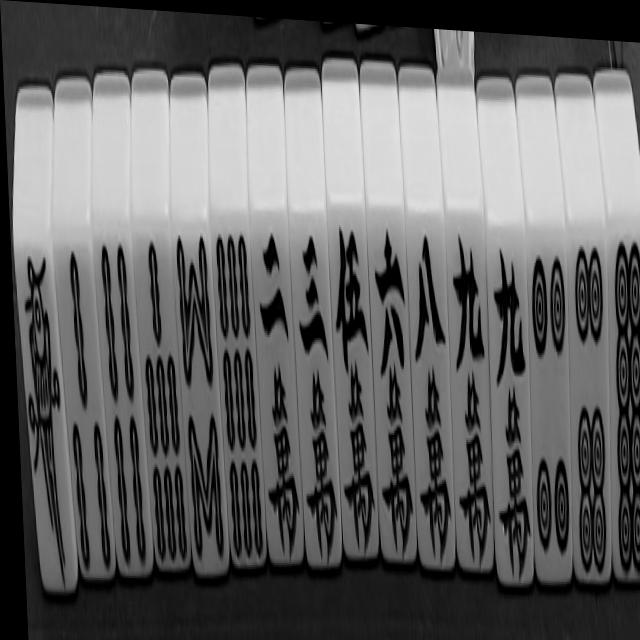m2: (242, 60, 308, 582)
m3: (281, 63, 346, 581)
m5: (319, 54, 382, 574)
m6: (357, 55, 420, 578)
m8: (395, 63, 460, 586)
m9: (474, 71, 541, 600), (434, 66, 500, 588)
s1: (4, 78, 80, 607)
s3: (45, 72, 118, 600)
s4: (85, 69, 157, 600)
s7: (124, 68, 192, 595)
s8: (163, 69, 232, 590)
s9: (202, 64, 270, 587)
t4: (510, 72, 581, 607)
t6: (551, 71, 621, 601)
t8: (589, 68, 640, 605)
